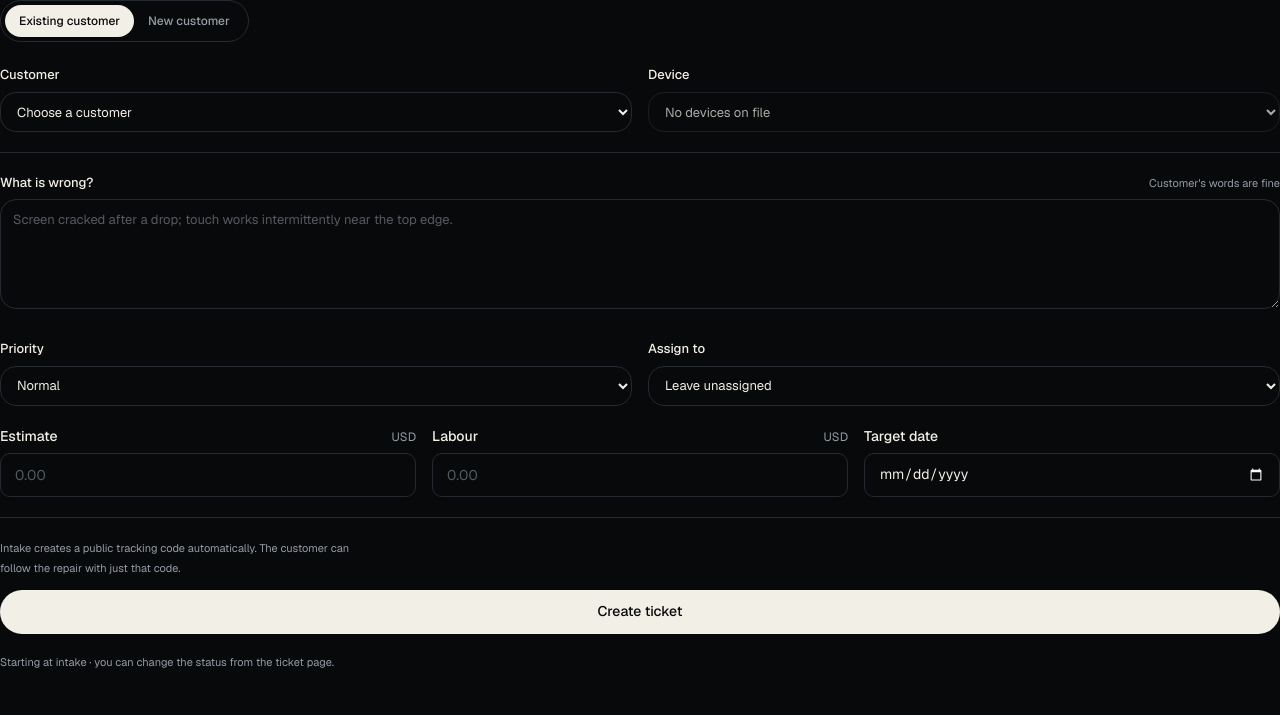
TicketIntakeForm › switches to new customer fields
Click the button "New customer" at [189, 21], box [134,5,244,37]
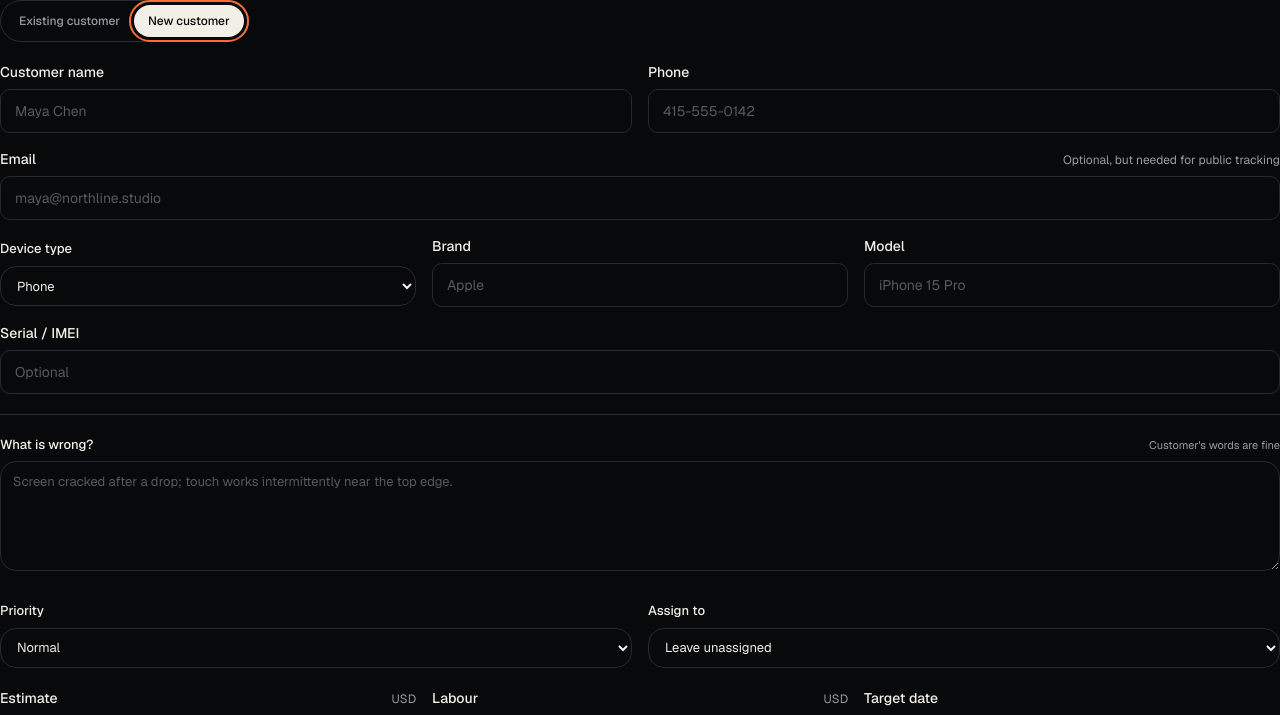
Check: the field labelled "Customer name" is shown, box [0,89,632,133]
Check: the field labelled "Phone" is shown, box [648,89,1279,133]
Check: the field labelled "Brand" is shown, box [432,263,848,307]
